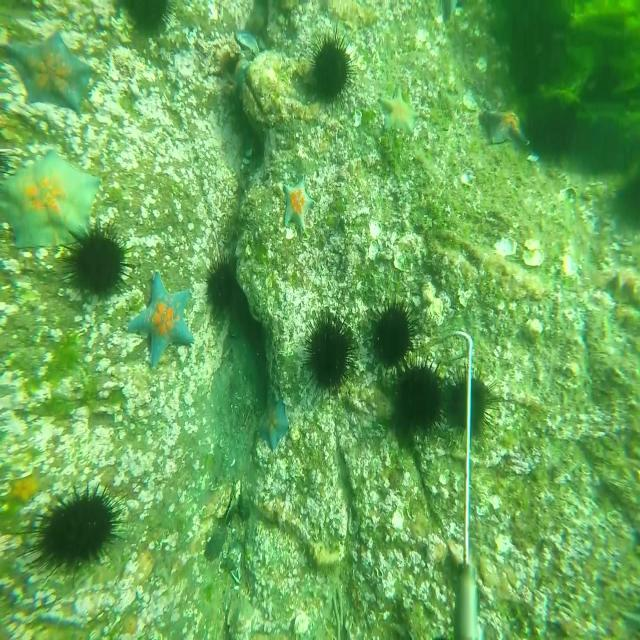echinus: (9, 476, 131, 588), (57, 215, 138, 308), (299, 297, 361, 405), (444, 358, 504, 446), (396, 348, 448, 443), (365, 291, 422, 374), (306, 21, 358, 111), (202, 249, 238, 316), (119, 0, 181, 37)
starfish: (0, 144, 105, 253), (124, 264, 197, 374), (8, 27, 98, 115), (479, 101, 532, 150), (377, 81, 420, 138), (255, 394, 292, 456), (280, 174, 318, 234)
